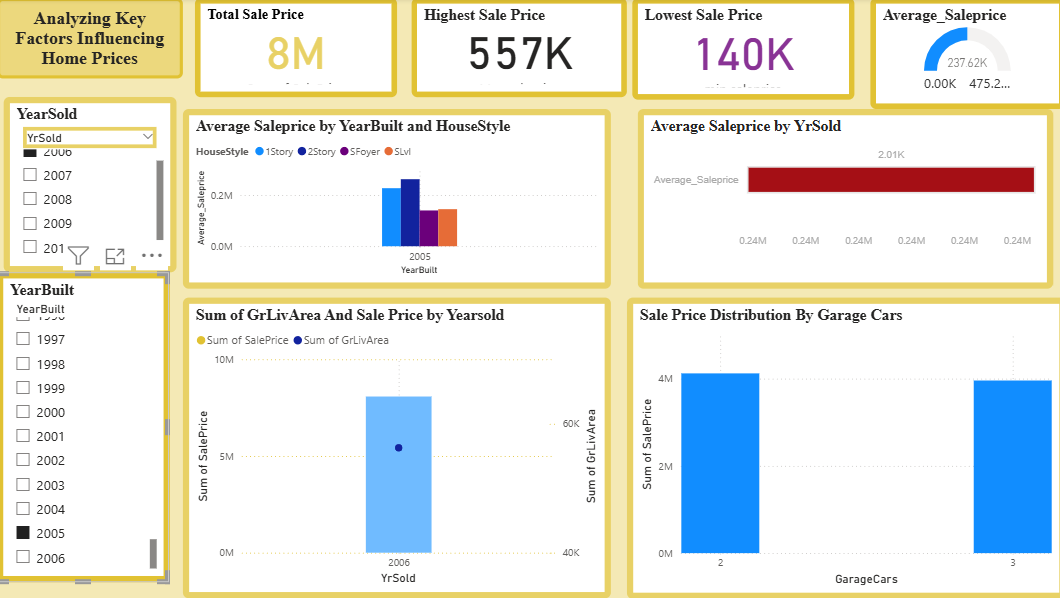

This screenshot's page, from the dashboard's own definition file:
{"tool":"powerbi","page":{"name":"Page 1","canvas":[1280,720],"ordinal":0},"visuals":[{"type":"card","fields":{"Values":["Sum(train.SalePrice)"]},"box":[241.2,0,241.2,109.1],"z":0},{"type":"card","fields":{"Values":["train.min saleprice"]},"box":[768.1,0,230.4,109.1],"z":2},{"type":"lineStackedColumnComboChart","fields":{"Y":["Sum(train.GrLivArea)","Sum(train.SalePrice)"],"Category":["train.HouseStyle"]},"box":[222.7,359.5,513.1,361],"z":3},{"type":"clusteredColumnChart","fields":{"Category":["train.GarageCars"],"Y":["Sum(train.SalePrice)"]},"box":[754.2,359.5,525.4,361],"z":4},{"type":"gauge","fields":{"Y":["train.Average"]},"box":[1013.8,0,251.9,115.2],"z":5},{"type":"slicer","fields":{"Values":["train.YearBuilt","train.YrSold"]},"box":[0,110.6,207.4,605.2],"z":6},{"type":"TableHeatMap1443716069308","fields":{"Y":["train.Average_Saleprice"],"Category":["train.YrSold"]},"box":[768.1,133.6,497.7,215.1],"z":7},{"type":"clusteredColumnChart","fields":{"Category":["train.YearBuilt"],"Y":["train.Average_Saleprice"],"Series":["train.HouseStyle"]},"box":[222.7,133.6,513.1,215.1],"z":8},{"type":"textbox","box":[0,0,222.7,96.8],"z":9},{"type":"card","fields":{"Values":["train.Max saleprice"]},"box":[506.9,1.5,247.3,109.1],"z":10}]}

Visuals, with their boxes in screenshot pixels (x1, y1, x2, y2), scaled from the page's 1280x720 canvas onto the 1060x598 screenshot:
card - Sum(train.SalePrice): region(200, 0, 399, 91)
card - train.min saleprice: region(636, 0, 827, 91)
lineStackedColumnComboChart - Sum(train.GrLivArea) x Sum(train.SalePrice): region(184, 299, 609, 597)
clusteredColumnChart - train.GarageCars x Sum(train.SalePrice): region(625, 299, 1059, 597)
gauge - train.Average: region(840, 0, 1048, 96)
slicer - train.YearBuilt x train.YrSold: region(0, 92, 172, 595)
TableHeatMap1443716069308 - train.Average_Saleprice x train.YrSold: region(636, 111, 1048, 290)
clusteredColumnChart - train.YearBuilt x train.Average_Saleprice: region(184, 111, 609, 290)
textbox: region(0, 0, 184, 80)
card - train.Max saleprice: region(420, 1, 625, 92)
